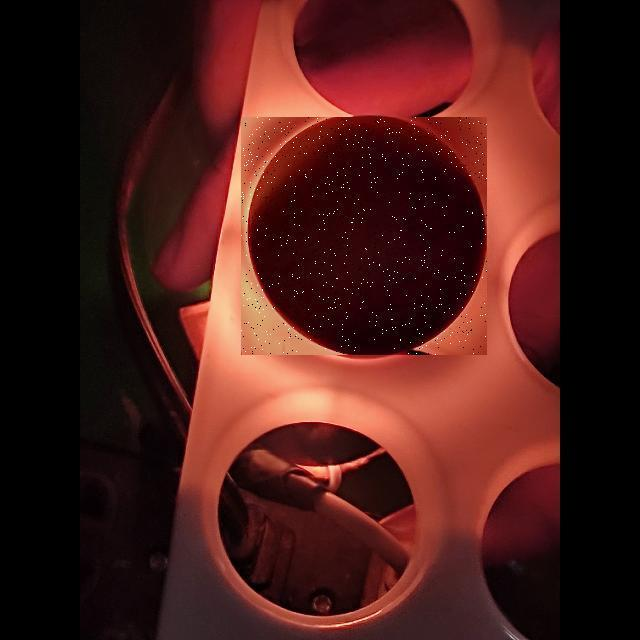A - Good: (241, 118, 490, 359)
